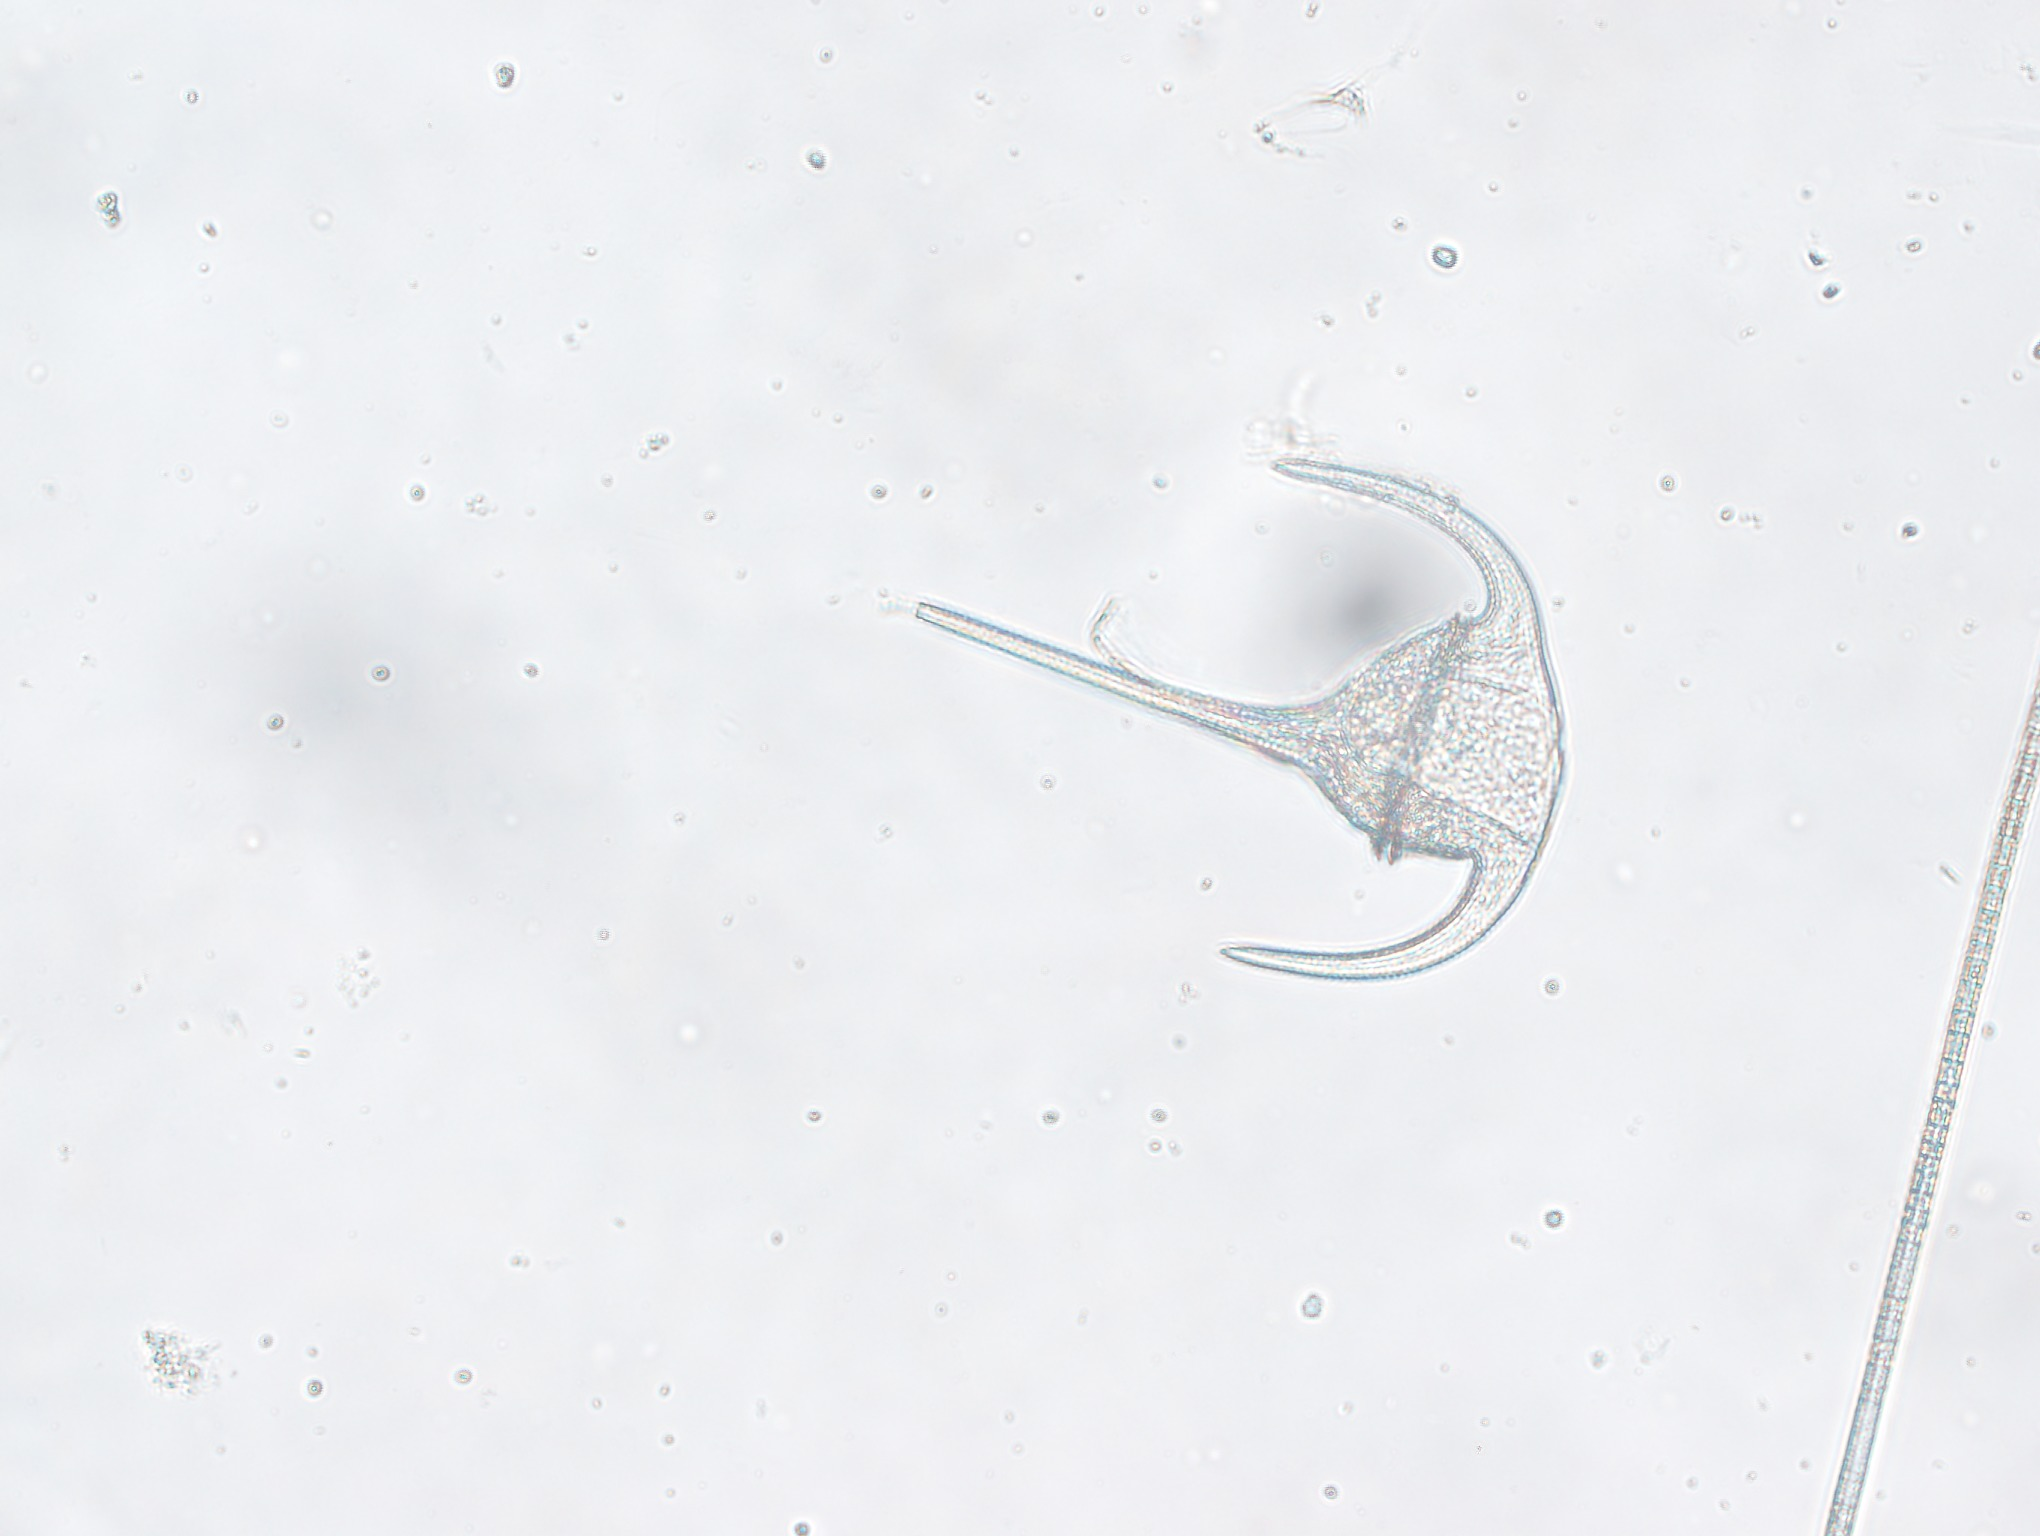ceratium tripos: (893, 411, 1606, 992)
